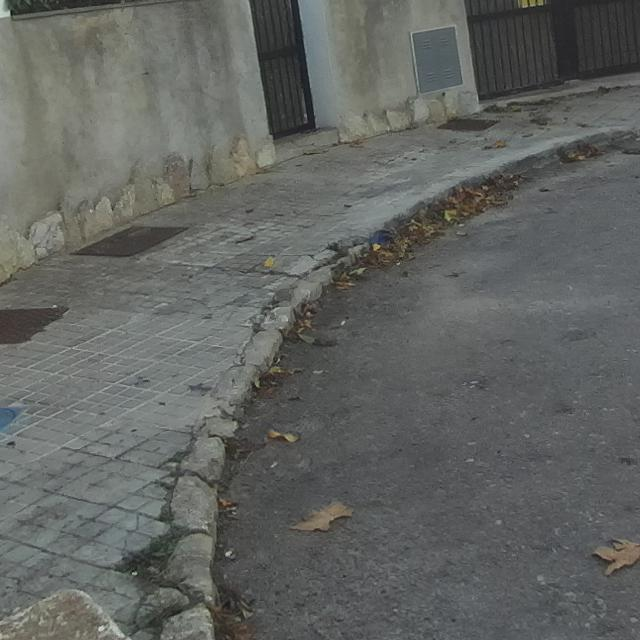calcada_quebrada: (114, 590, 150, 631), (121, 510, 143, 564)
